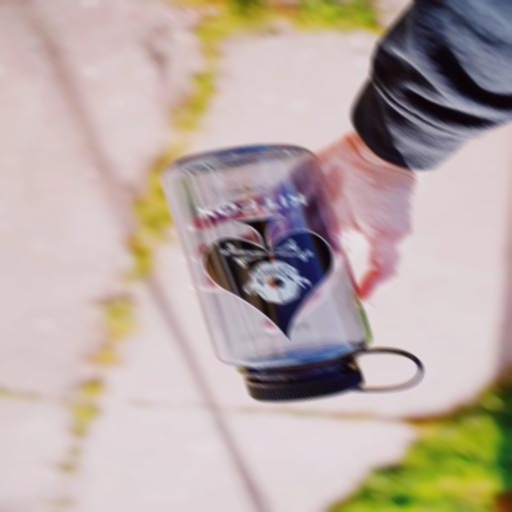bottle: (159, 143, 424, 403)
